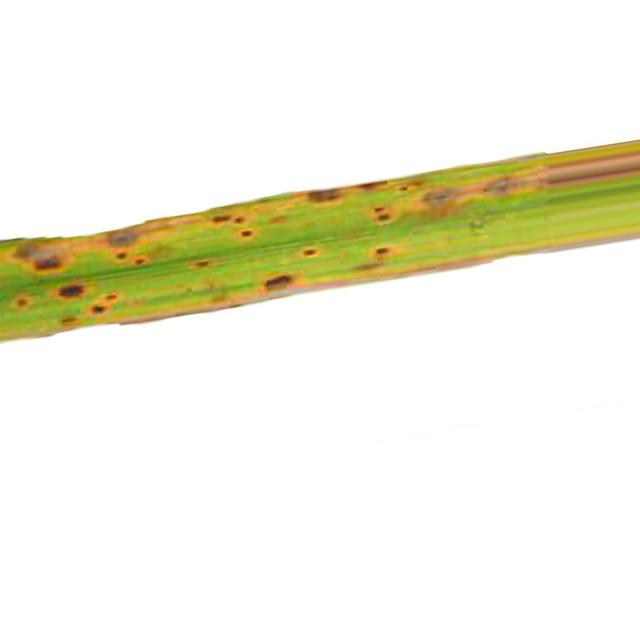Brown_Spot: (14, 239, 74, 274), (409, 185, 470, 216), (210, 202, 259, 236), (481, 160, 522, 200), (266, 274, 302, 296), (54, 310, 81, 329), (85, 299, 114, 316), (308, 189, 340, 202), (58, 284, 85, 298), (109, 232, 136, 246), (189, 258, 220, 270), (12, 294, 34, 309), (372, 206, 392, 222), (110, 246, 132, 260), (125, 255, 150, 266), (360, 181, 388, 190), (376, 245, 394, 258), (238, 229, 259, 238), (302, 248, 318, 258), (104, 291, 118, 301)
